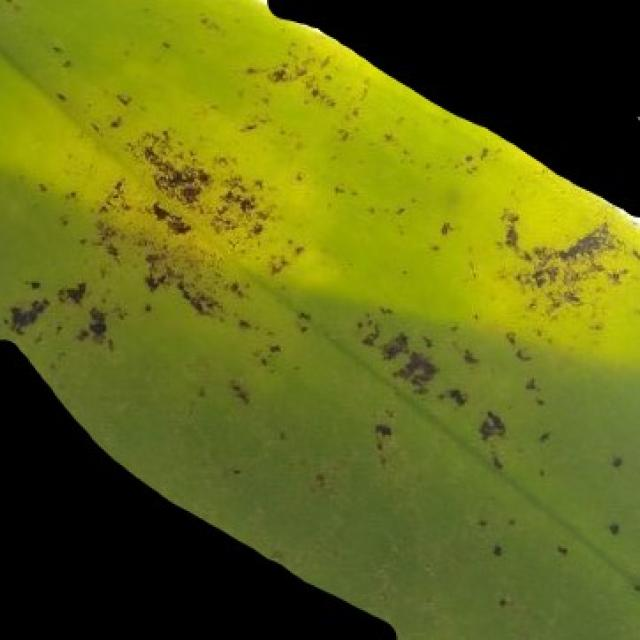mite: (352, 304, 638, 612), (599, 446, 638, 541), (476, 407, 506, 442), (599, 513, 626, 541), (603, 447, 626, 472), (550, 537, 571, 560), (486, 537, 506, 560), (608, 453, 624, 469), (606, 520, 621, 536), (553, 541, 568, 557), (490, 541, 502, 557), (629, 578, 638, 594)
